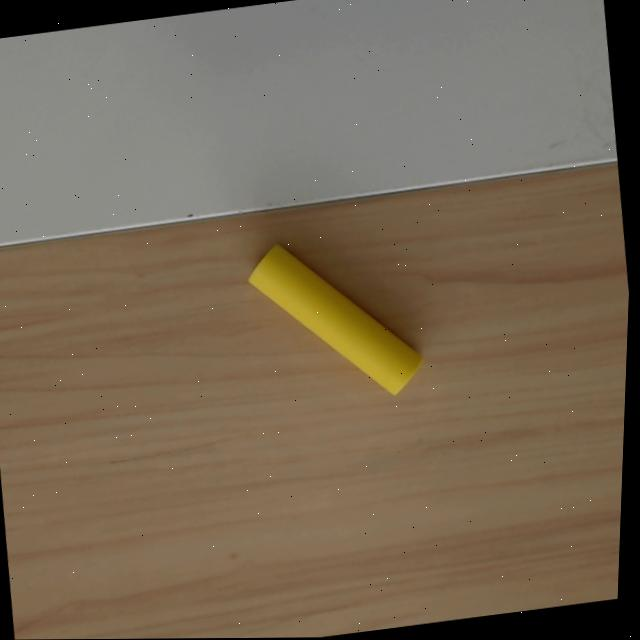Silinder-Kuning-10025: (243, 240, 424, 396)
